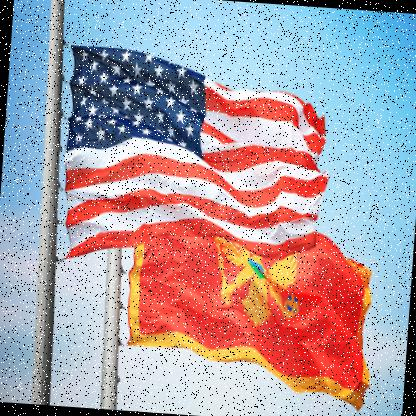me: (122, 177, 386, 416)
